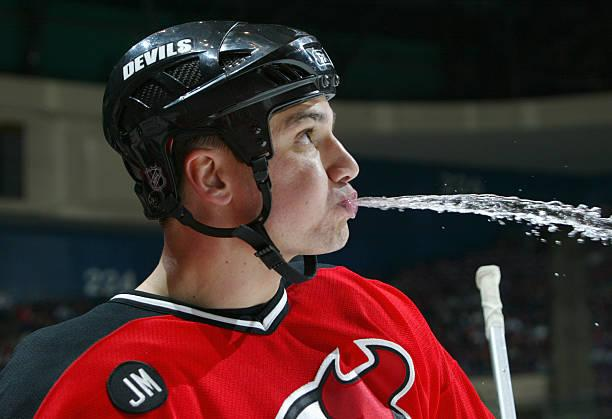Spitting: (86, 3, 422, 261)
